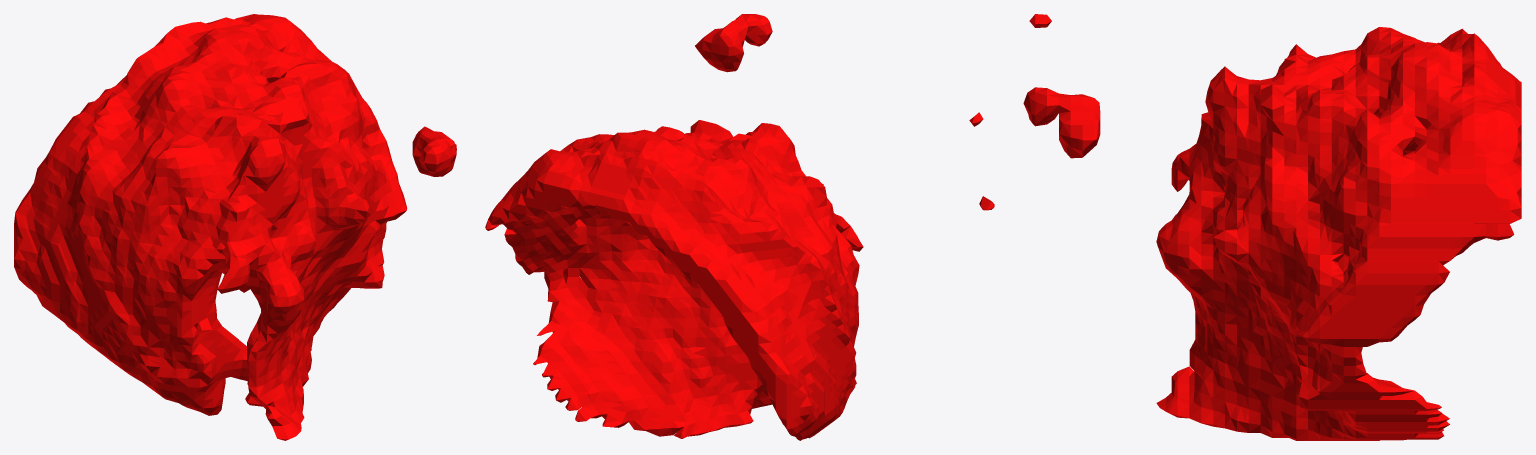
File: B939XXXX-1_valve_2.obj
The picture shows the model from 3 angles, left to right: view 1: azimuth 30°, elevation 25°; view 2: azimuth 150°, elevation 25°; view 3: azimuth 270°, elevation 25°; orthographic projection. The views are drawn at different scales.
Parts seen in each view (by area): view 1: 2_valve; view 2: 2_valve; view 3: 2_valve.
Boxes of the visible parts, bbox=[...] form: 2_valve: bbox=[14, 14, 456, 440]; 2_valve: bbox=[485, 14, 994, 440]; 2_valve: bbox=[1023, 14, 1521, 440].
Bounding box in the file's own units: 75.98 × 72.31 × 83.95.
